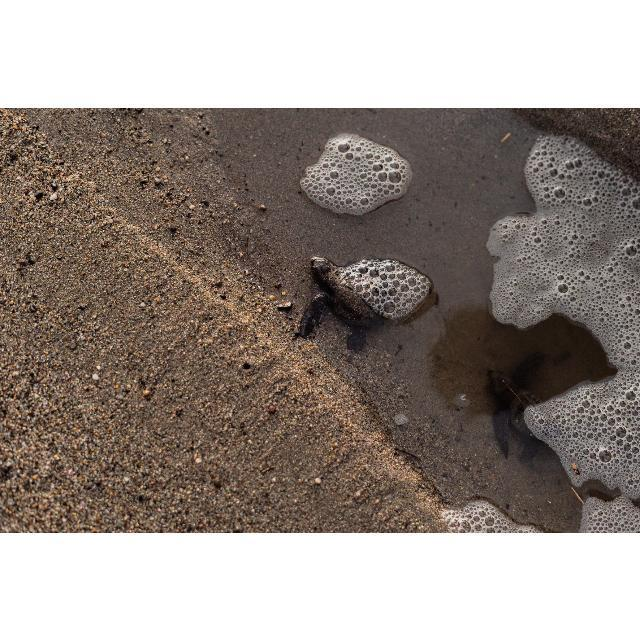turtle: (296, 256, 436, 354)
